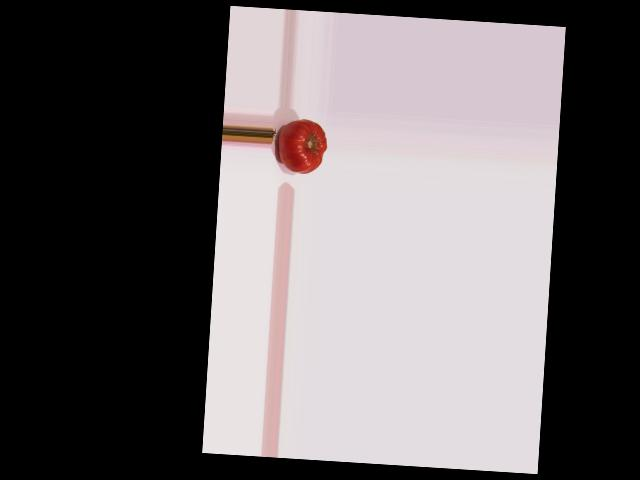tomato: (277, 118, 328, 174)
